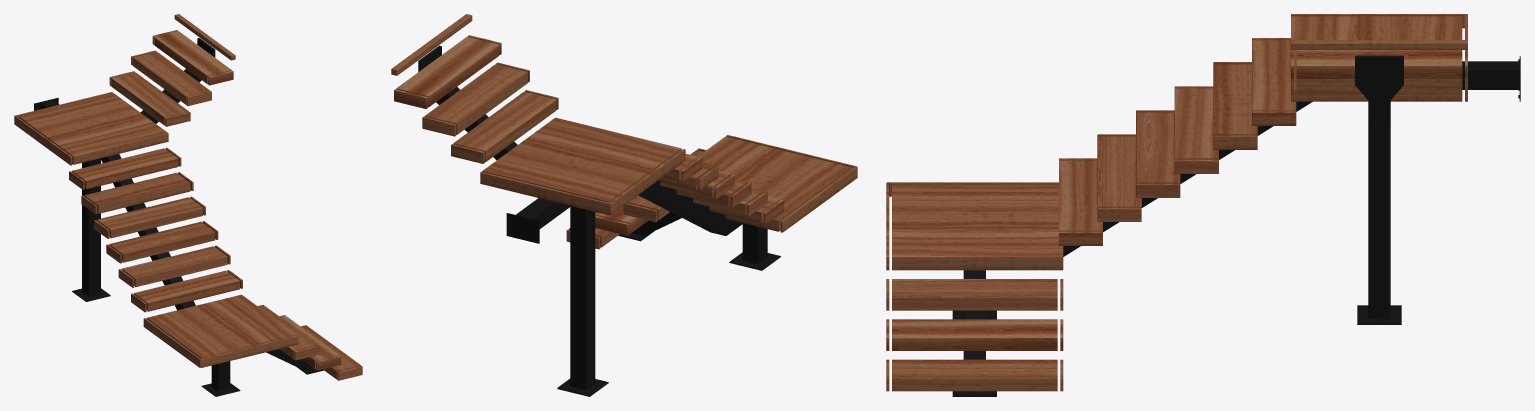
The model's file is U-Shaped_Stair_Boss-with-Tread-Cap.gltf.
The picture shows the model from 3 angles, left to right: view 1: azimuth 30°, elevation 25°; view 2: azimuth 150°, elevation 25°; view 3: azimuth 270°, elevation 25°; orthographic projection. The views are drawn at different scales.
Parts seen in each view (by area): view 1: Landing003, Landing001, Tread Block_072, Tread Block_074, Tread Block_077, Tread Block_075, Tread Block_073, Tread Block_076, Tread Block_054, Tread Block_055, Tread Block_053, Column Tube (+7 smaller); view 2: Landing001, Landing003, Column Tube, Tread Block_053, Tread Block_055, Tread Block_054, Stair Stringer_Upper001, Column Tube001, Floor Nosing002, Tread Block_098, Tread Block_103, Stringer to Wall-Wood Blocking Part [7641775] (+8 smaller); view 3: Landing003, Landing001, Tread Block_099, Tread Block_103, Tread Block_098, Column Tube, Tread Block_055, Tread Block_073, Tread Block_077, Tread Block_072, Tread Block_074, Tread Block_075 (+8 smaller).
Part boxes in pixels (box(x1,y1,x2,y2)): Landing003: box(143, 294, 298, 367); Landing001: box(14, 92, 168, 165); Tread Block_072: box(81, 172, 193, 214); Tread Block_074: box(106, 221, 218, 263); Tread Block_077: box(69, 147, 181, 189); Tread Block_075: box(118, 245, 230, 287); Tread Block_073: box(94, 196, 205, 238); Tread Block_076: box(131, 270, 242, 312); Tread Block_054: box(109, 71, 190, 126); Tread Block_055: box(152, 30, 233, 85); Tread Block_053: box(131, 50, 211, 105); Column Tube: box(82, 158, 100, 296); Landing001: box(480, 117, 685, 215); Landing003: box(698, 135, 857, 232); Column Tube: box(570, 206, 595, 390); Tread Block_053: box(422, 62, 529, 136); Tread Block_055: box(394, 35, 501, 108); Tread Block_054: box(451, 90, 558, 163); Stair Stringer_Upper001: box(516, 181, 743, 235); Column Tube001: box(742, 223, 767, 264); Floor Nosing002: box(391, 14, 472, 75); Tread Block_098: box(595, 206, 648, 235); Tread Block_103: box(623, 148, 706, 222); Stringer to Wall-Wood Blocking Part [7641775]: box(506, 213, 539, 243); Landing003: box(886, 182, 1063, 270); Landing001: box(1291, 14, 1467, 101); Tread Block_099: box(886, 359, 1063, 391); Tread Block_103: box(886, 279, 1063, 310); Tread Block_098: box(886, 319, 1063, 350); Column Tube: box(1368, 121, 1390, 319); Tread Block_055: box(1291, 50, 1467, 78); Tread Block_073: box(1174, 86, 1218, 173); Tread Block_077: box(1252, 38, 1296, 125); Tread Block_072: box(1213, 62, 1257, 149); Tread Block_074: box(1136, 110, 1180, 197); Tread Block_075: box(1097, 134, 1141, 221).
Size of the model in its own units: 2.05 by 2.74 by 4.37.
